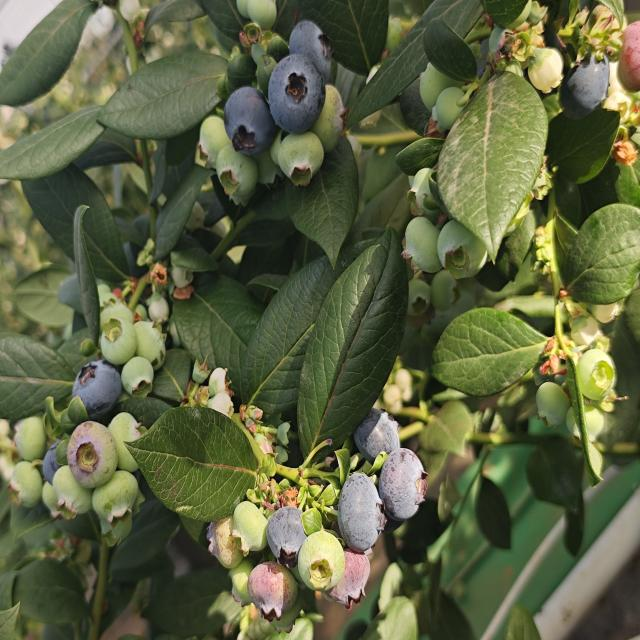ripe: (265, 52, 327, 136), (335, 470, 387, 555), (221, 84, 276, 160), (282, 8, 340, 80), (377, 446, 430, 524), (558, 48, 612, 122), (259, 500, 311, 570), (70, 356, 124, 422), (350, 400, 404, 465), (42, 435, 84, 489)
